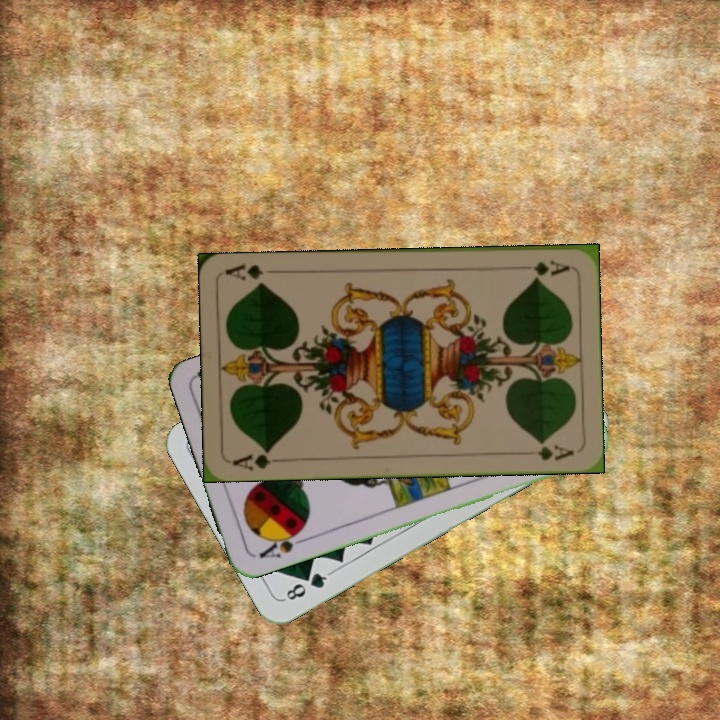G8: (280, 568, 334, 603)
GA: (228, 445, 287, 472), (514, 256, 573, 279)
SA: (255, 524, 310, 561)
